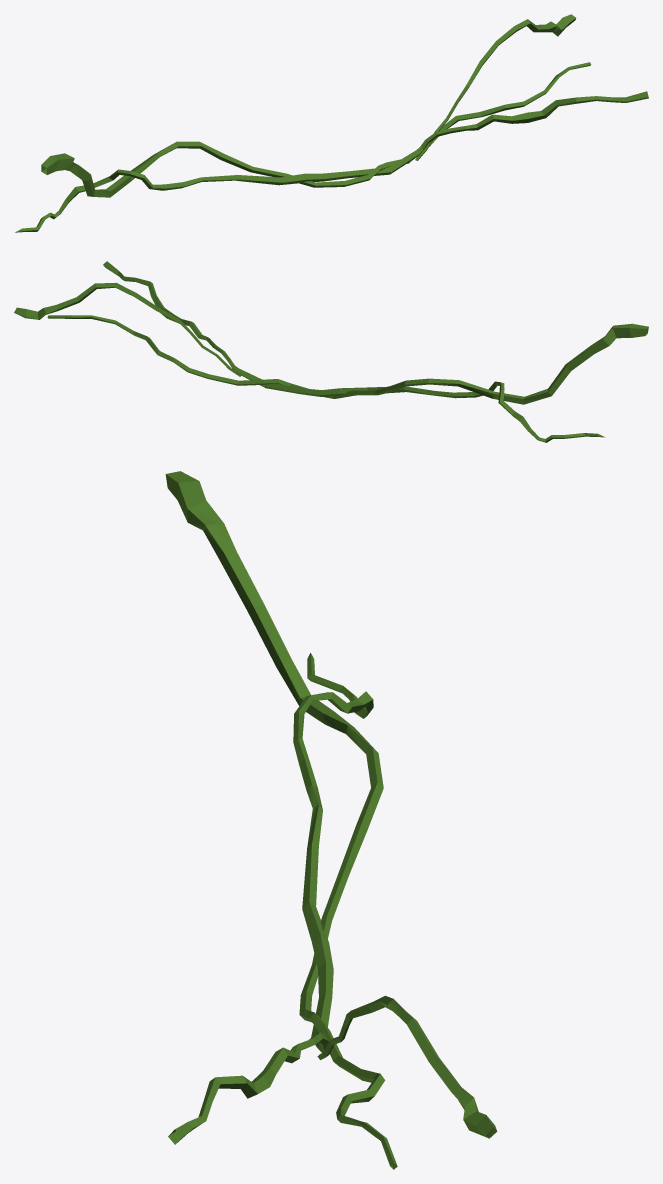
File: ZLPC_Plant_Vine_B_2.FBX
The picture shows the model from 3 angles, top to bottom: view 1: azimuth 30°, elevation 25°; view 2: azimuth 150°, elevation 25°; view 3: azimuth 270°, elevation 25°; orthographic projection. The views are drawn at different scales.
Visible parts, largest first — view 1: ZLPC_Plant_Vine_B_2; view 2: ZLPC_Plant_Vine_B_2; view 3: ZLPC_Plant_Vine_B_2.
Part boxes in pixels (x1=…): ZLPC_Plant_Vine_B_2: x1=15, y1=14, x2=648, y2=232; ZLPC_Plant_Vine_B_2: x1=14, y1=261, x2=648, y2=442; ZLPC_Plant_Vine_B_2: x1=165, y1=471, x2=497, y2=1169.
Size of the model in its own units: 1174 by 242 by 303.
